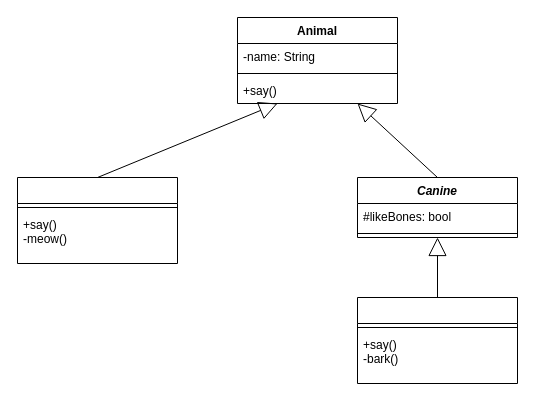
This 535x404 diagram has some shape labels left out. The box of each missing label's shape, as (x1, y1, x2, y2) in pixels:
Cat: (16, 176, 178, 264)
Dog: (356, 296, 518, 384)
